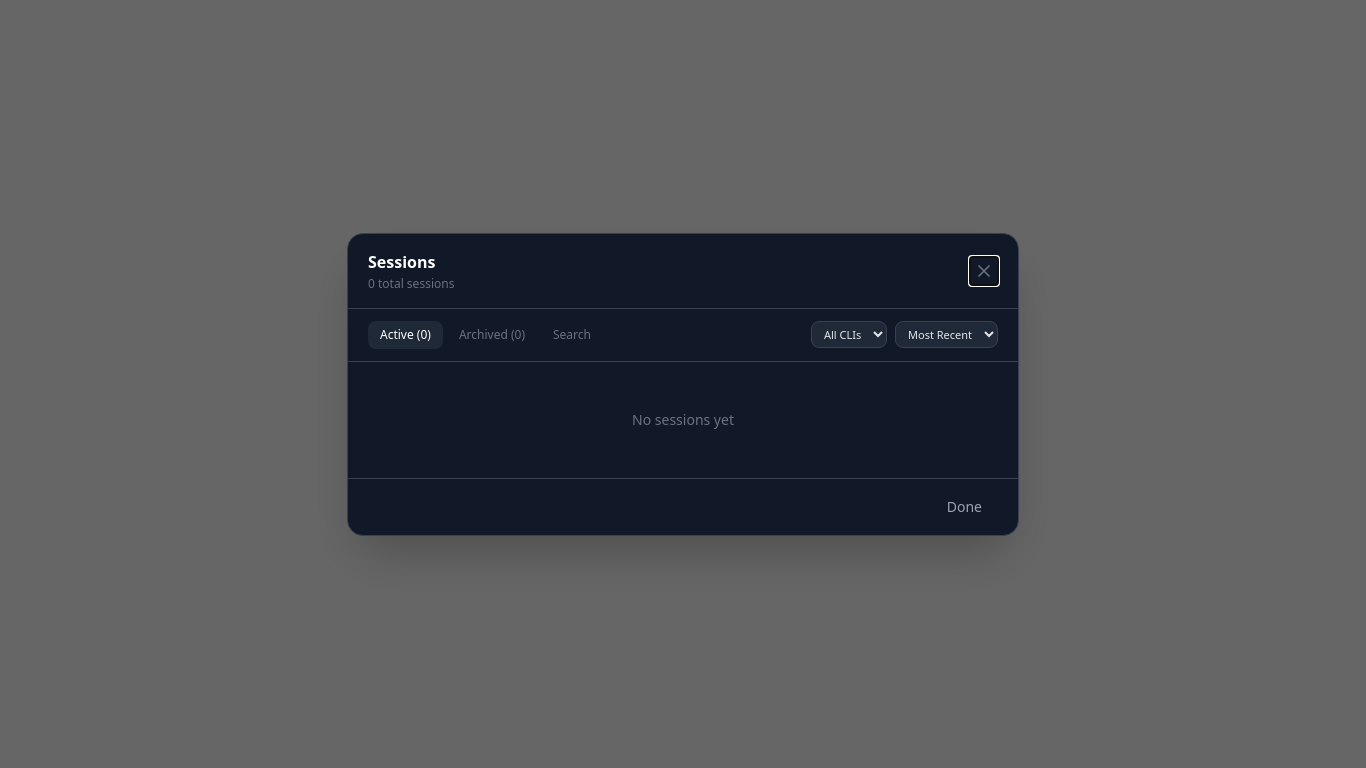
SessionManager › shows "No matches found" when search returns empty results
Click the button "Search": click(572, 334) left=541, top=320, right=603, bottom=348
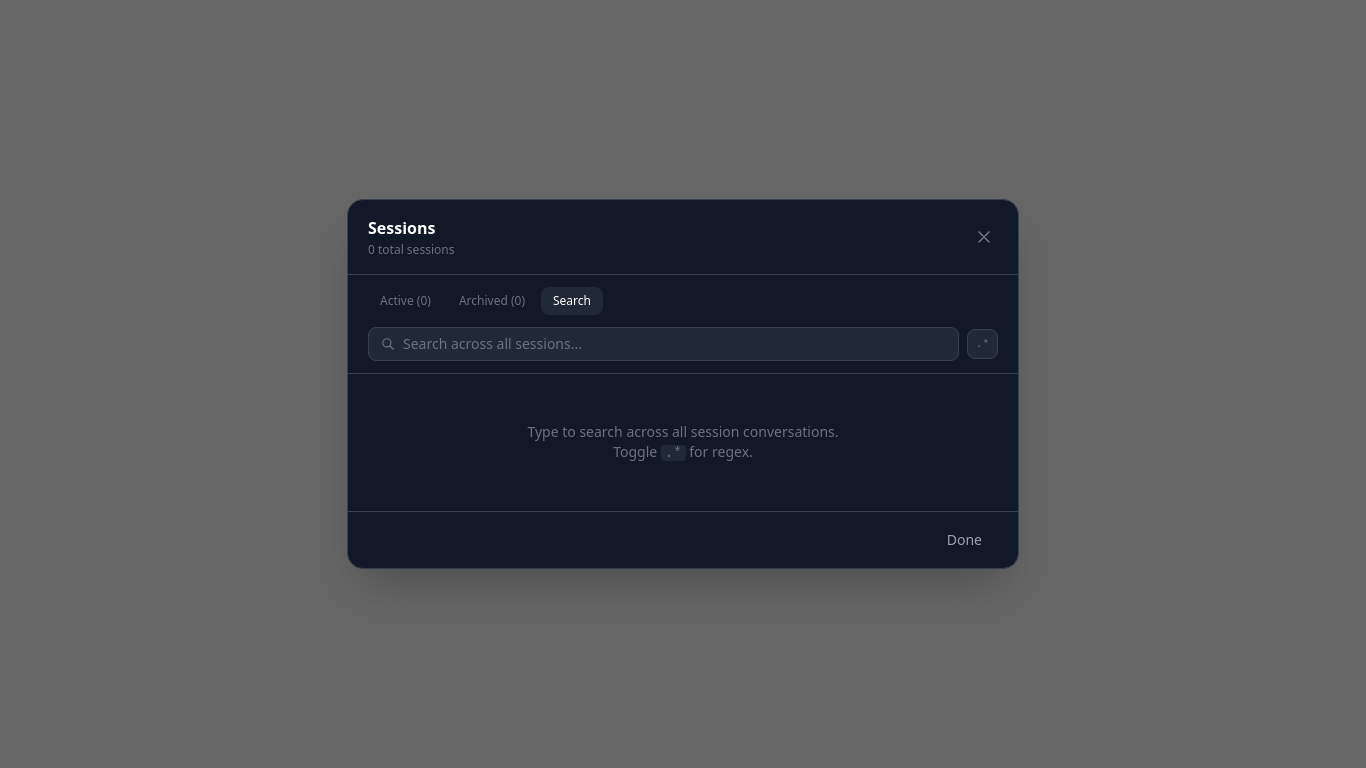
expect the field named "Search sessions" is shown: met
In the field named "Search sessions": (674, 344) left=403, top=334, right=946, bottom=354, type "xyz"
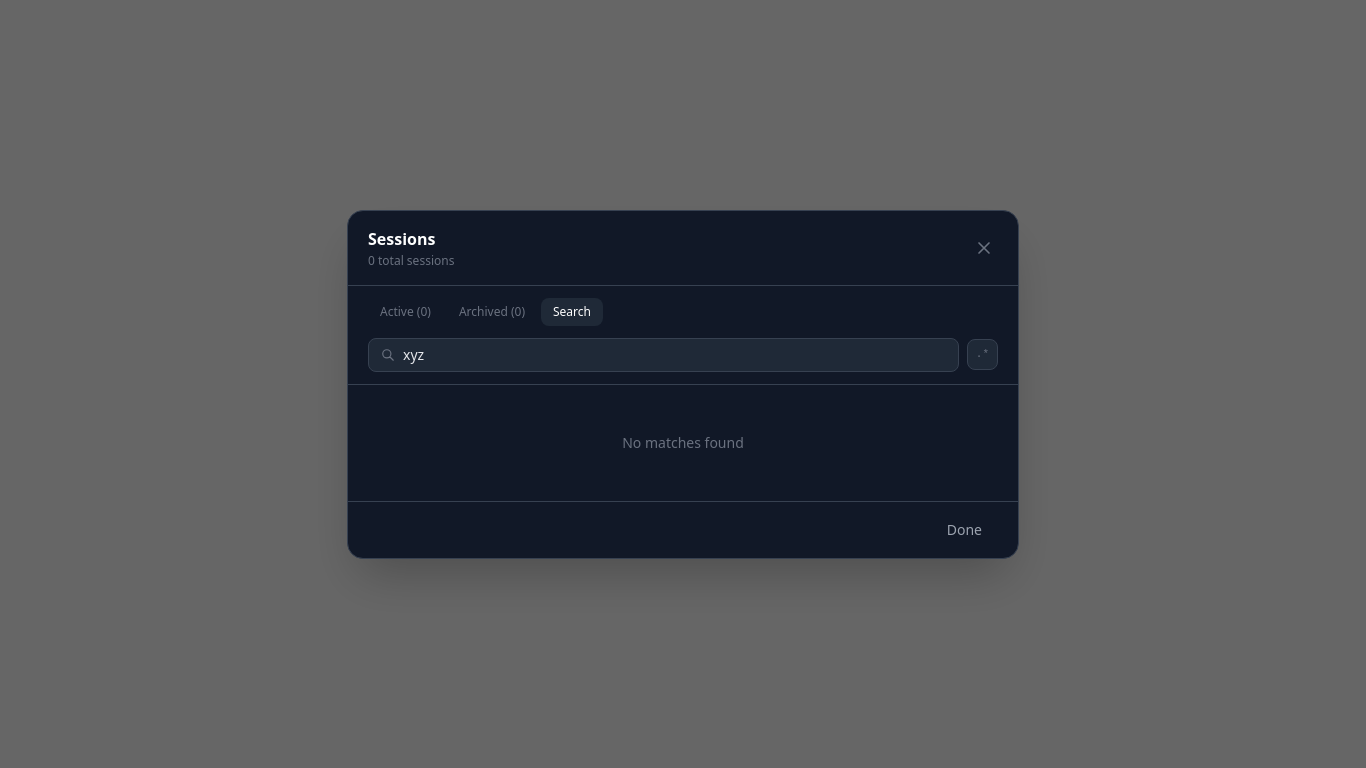
expect the text "No matches found" is shown: met, box left=622, top=432, right=744, bottom=452
